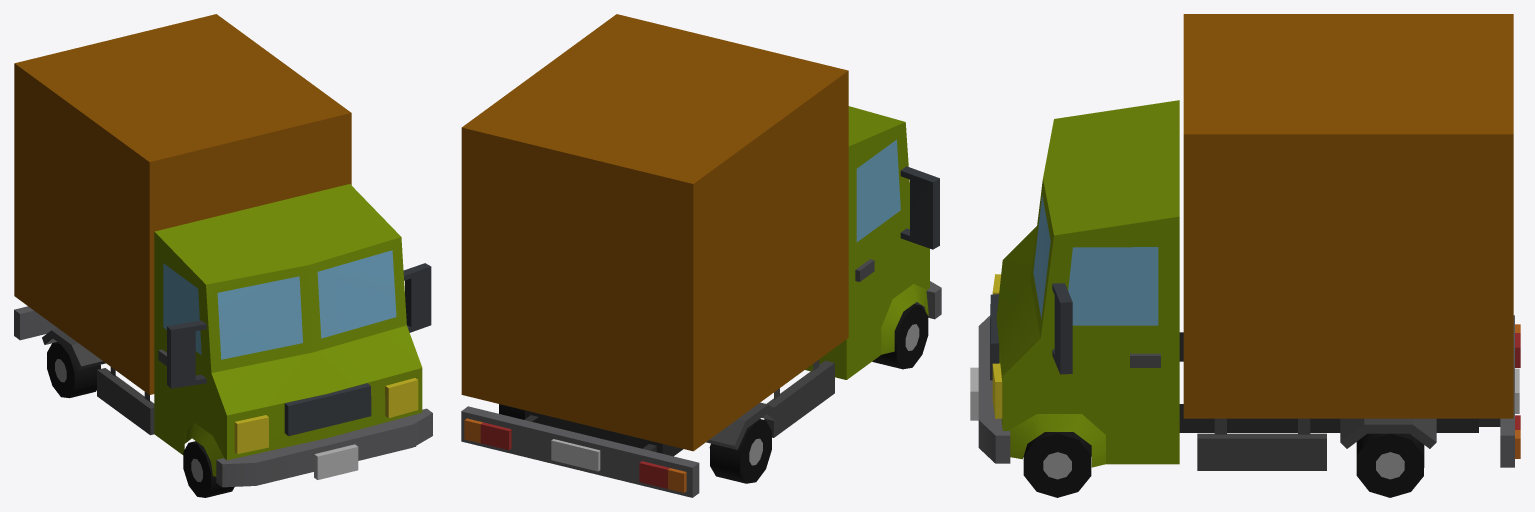
The model's file is Car_08_green.fbx.
3 views of the same model, side by side, from view 1: azimuth 30°, elevation 25°; view 2: azimuth 150°, elevation 25°; view 3: azimuth 270°, elevation 25° (orthographic). The views are drawn at different scales.
Parts seen in each view (by area): view 1: Car_08_green; view 2: Car_08_green; view 3: Car_08_green.
Boxes of the visible parts, x1=… form: Car_08_green: x1=14, y1=14, x2=432, y2=497; Car_08_green: x1=461, y1=14, x2=941, y2=497; Car_08_green: x1=970, y1=14, x2=1520, y2=497.
Bounding box in the file's own units: 65.03 × 70.59 × 97.45.
